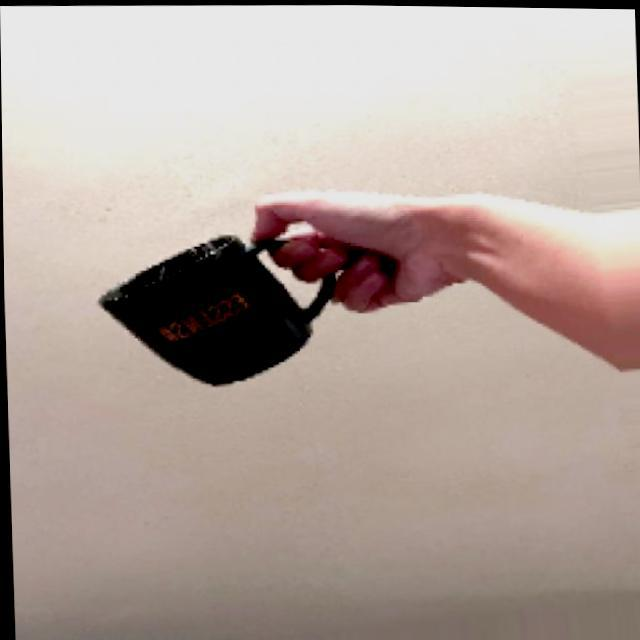cup: (81, 197, 144, 339)
